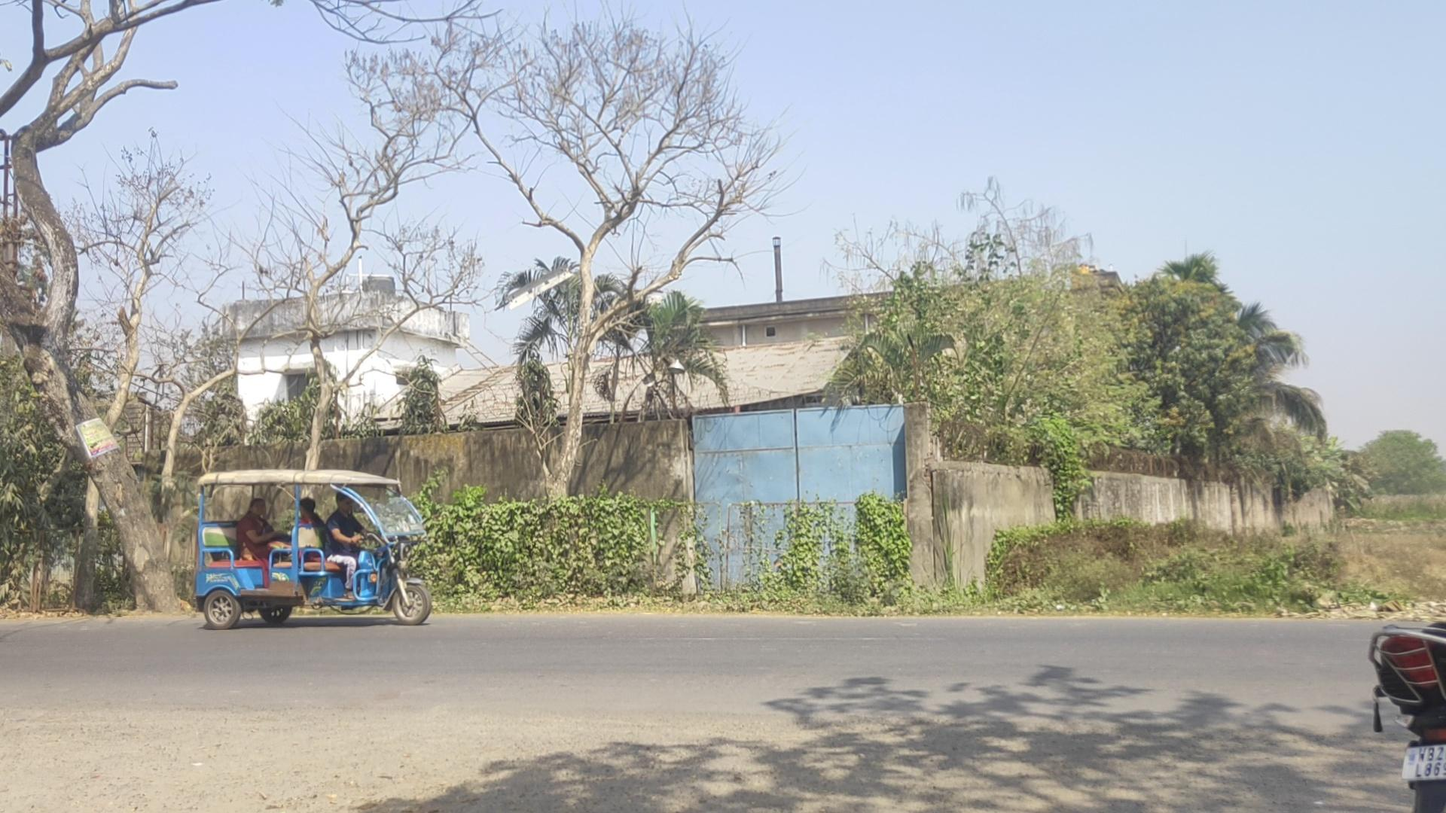Auto: (194, 469, 432, 629)
